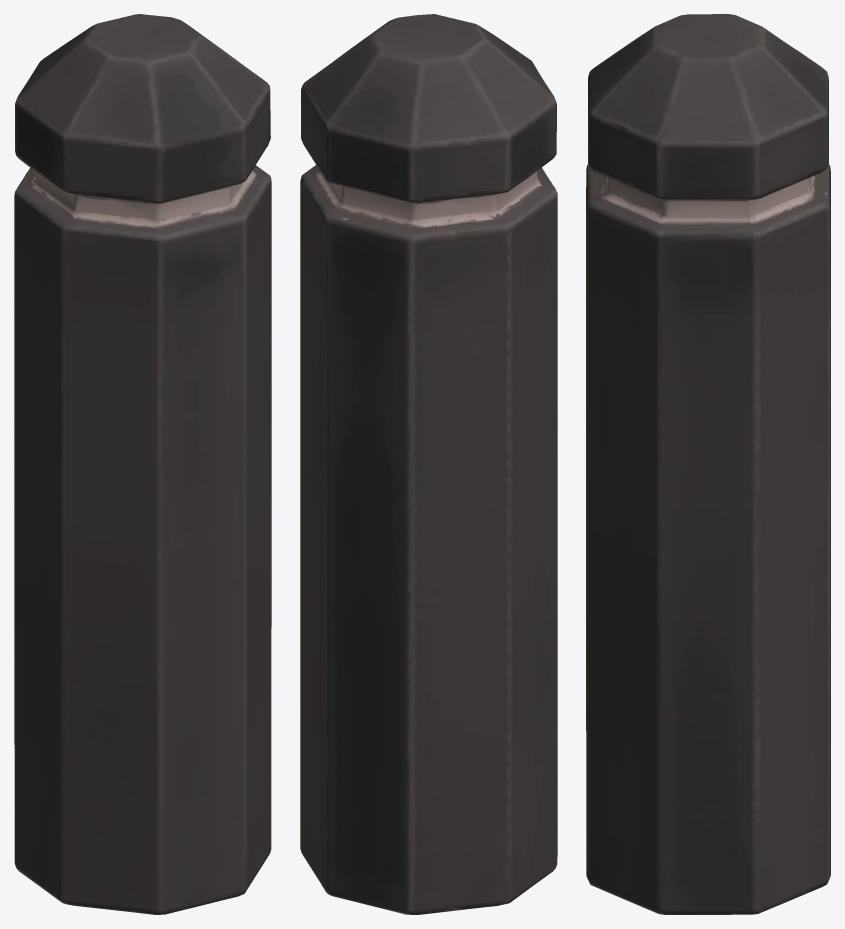
Rendered from bollard.glb.
3 views of the same model, side by side, from view 1: azimuth 30°, elevation 25°; view 2: azimuth 150°, elevation 25°; view 3: azimuth 270°, elevation 25° (orthographic).
Parts seen in each view (by area): view 1: body; view 2: body; view 3: body.
Part boxes in pixels (box(x1,y1,x2,y2)): body: box(14, 14, 271, 914); body: box(300, 14, 557, 914); body: box(586, 14, 830, 914).
Bounding box in the file's own units: 0.2399 × 0.8997 × 0.2399.
1 material, 1 textured.
